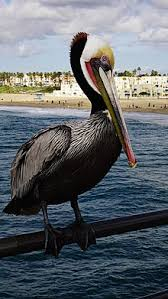pelican: (9, 32, 136, 256)
